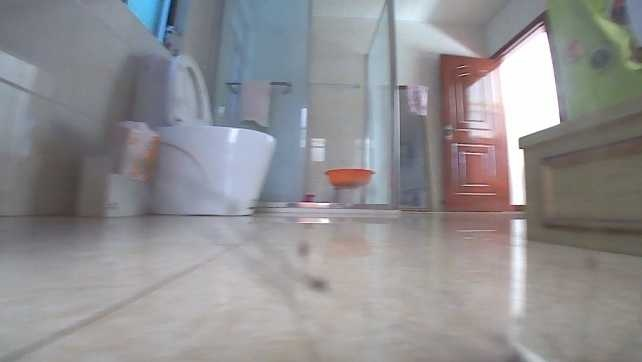door_anno: (436, 52, 514, 211)
toilet: (128, 48, 278, 216)
